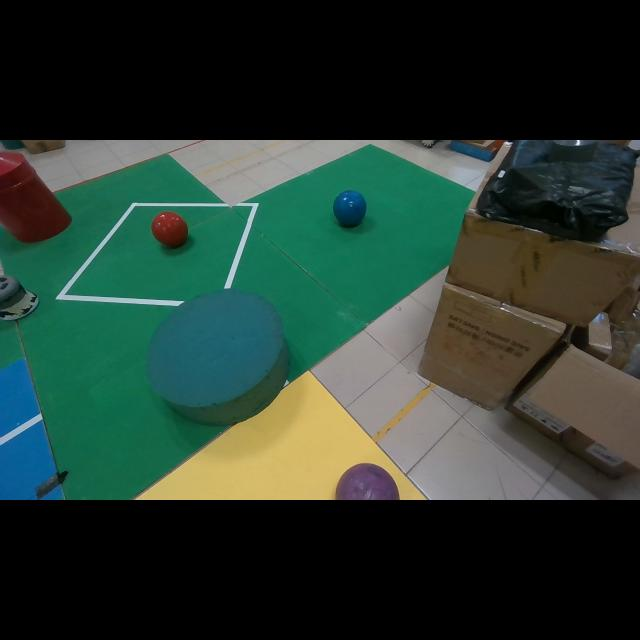B: (334, 190, 366, 228)
P: (335, 462, 400, 500)
R: (151, 211, 188, 248)
